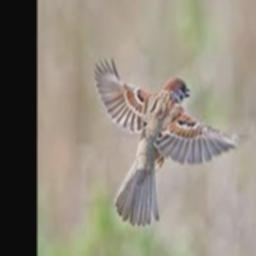Sparrow: (93, 55, 246, 226)
